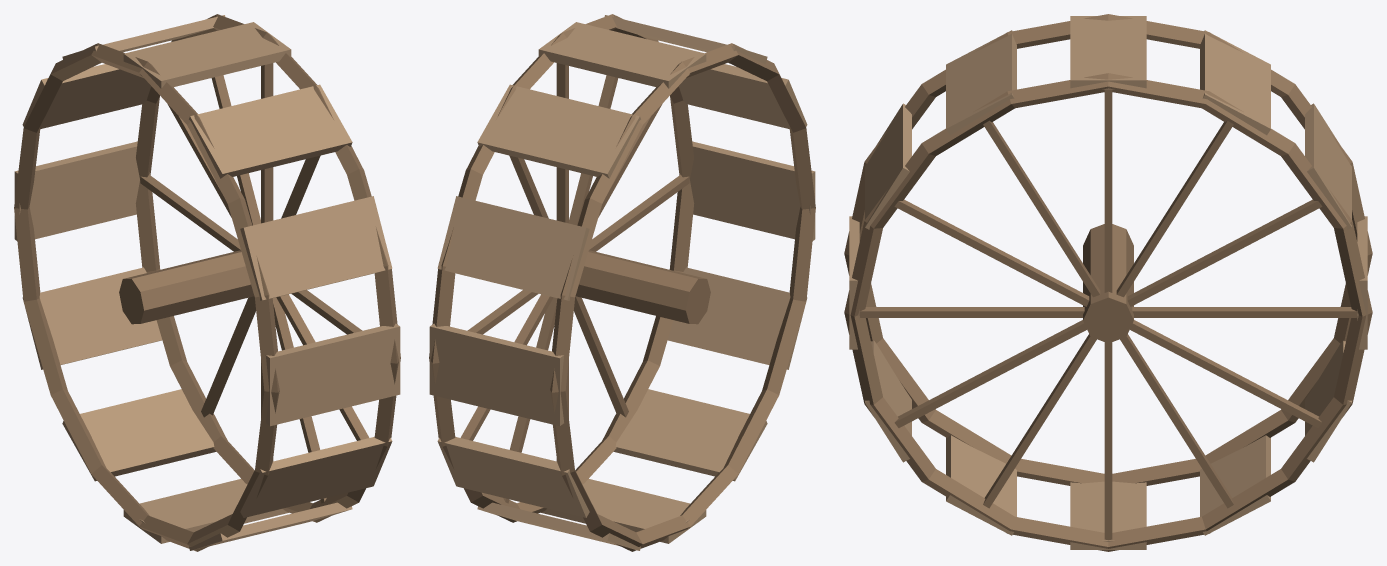
File: waterwheel.glb
The picture shows the model from 3 angles, left to right: view 1: azimuth 30°, elevation 25°; view 2: azimuth 150°, elevation 25°; view 3: azimuth 270°, elevation 25°; orthographic projection.
Parts seen in each view (by area): view 1: waterwheel; view 2: waterwheel; view 3: waterwheel.
Boxes of the visible parts, x1,y1,x2,y2 form: waterwheel: [14, 14, 400, 551]; waterwheel: [429, 14, 815, 551]; waterwheel: [844, 14, 1372, 551].
Size of the model in its own units: 1.4 by 4.16 by 4.16.
